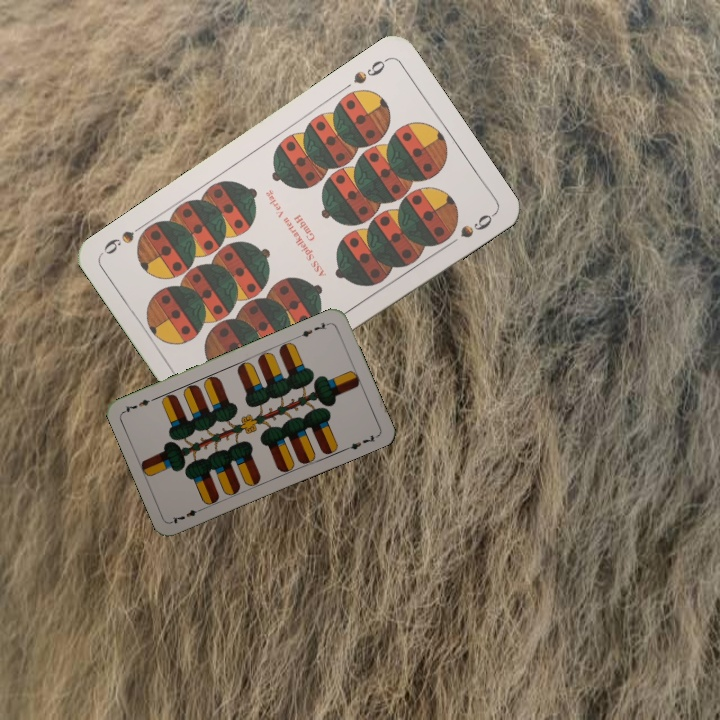E7: (168, 504, 206, 527), (294, 318, 332, 340)
S9: (349, 54, 391, 87)
